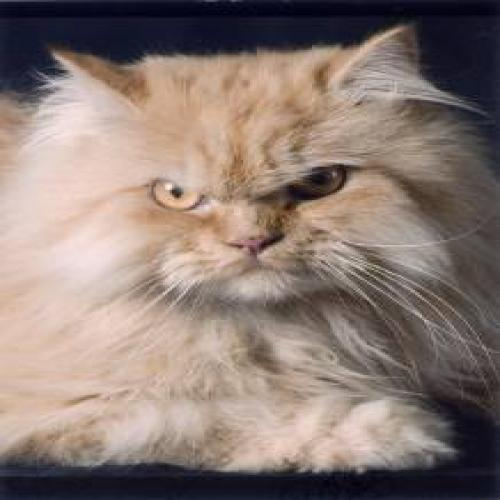persian: (27, 27, 494, 340)
